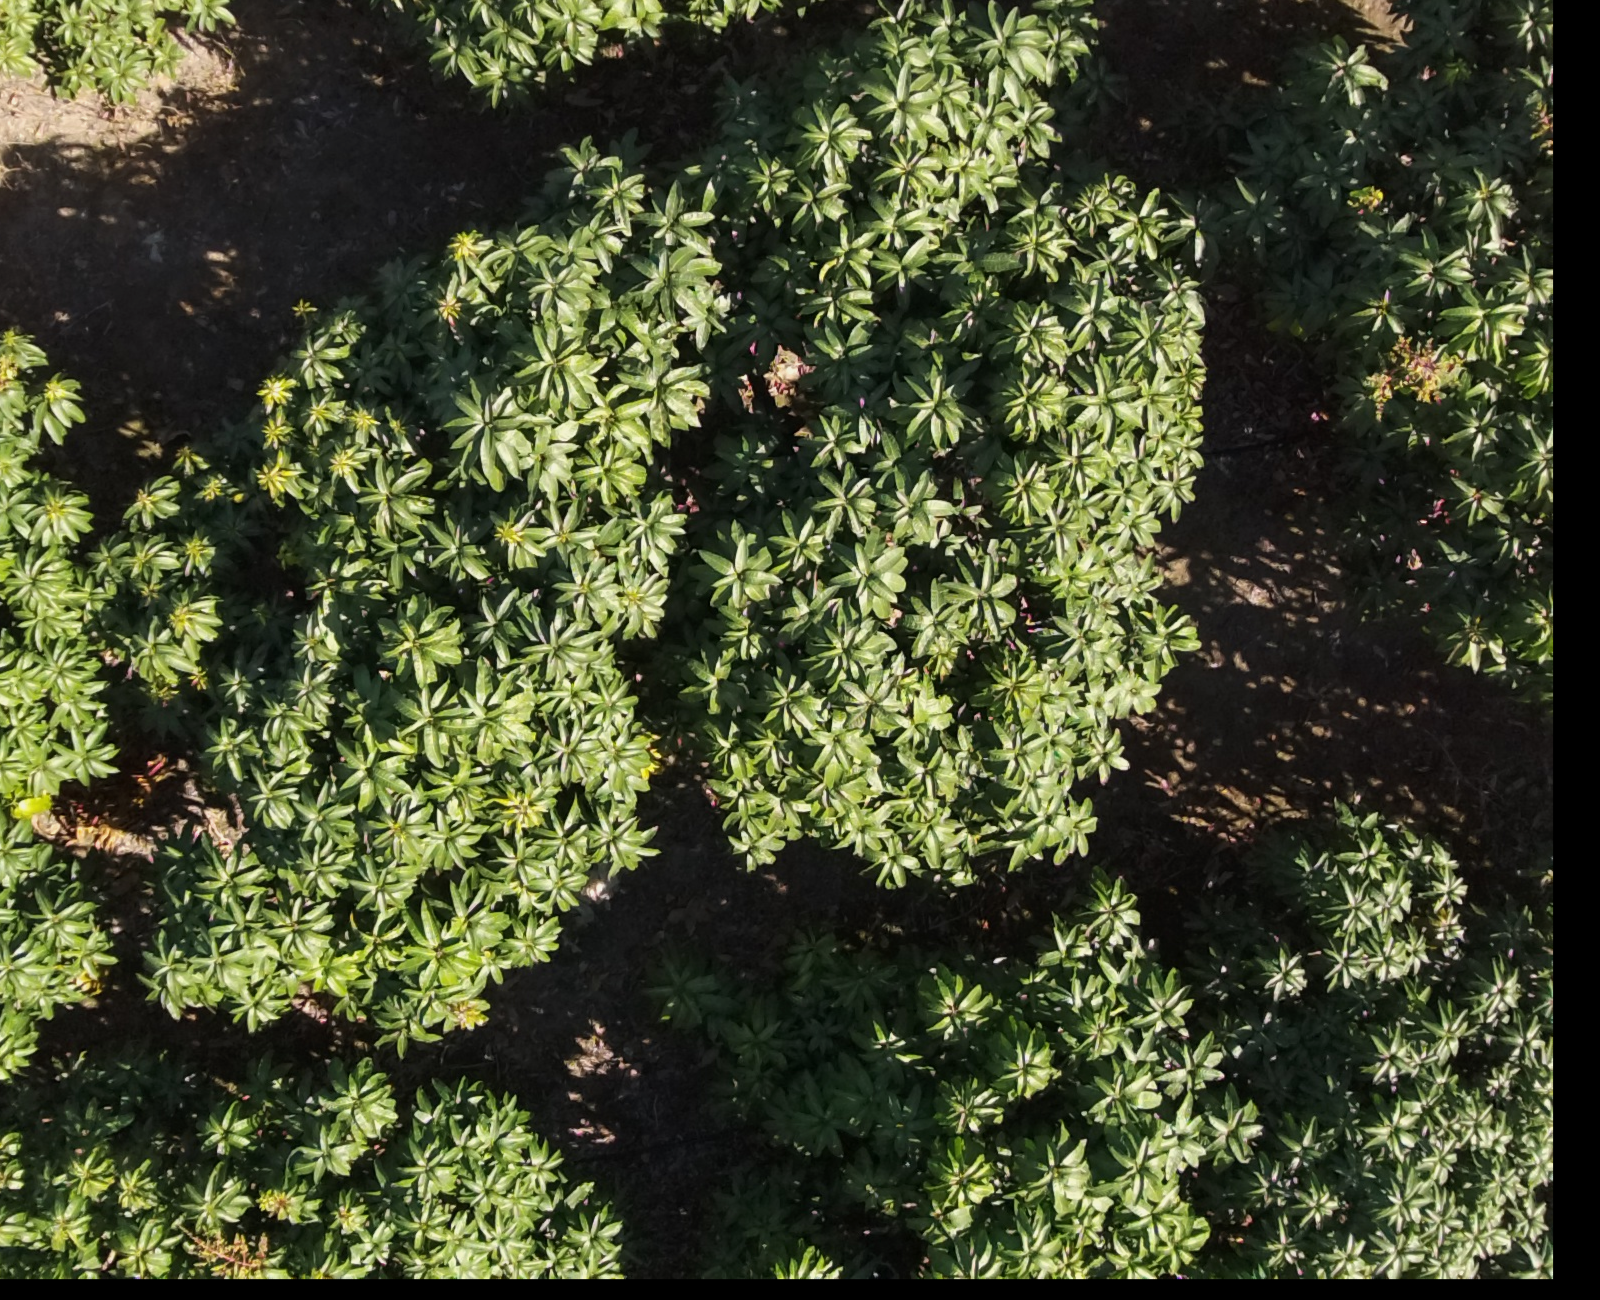flowers: (1364, 336, 1462, 413), (188, 1231, 268, 1279), (257, 1190, 305, 1222), (1531, 103, 1552, 155)
